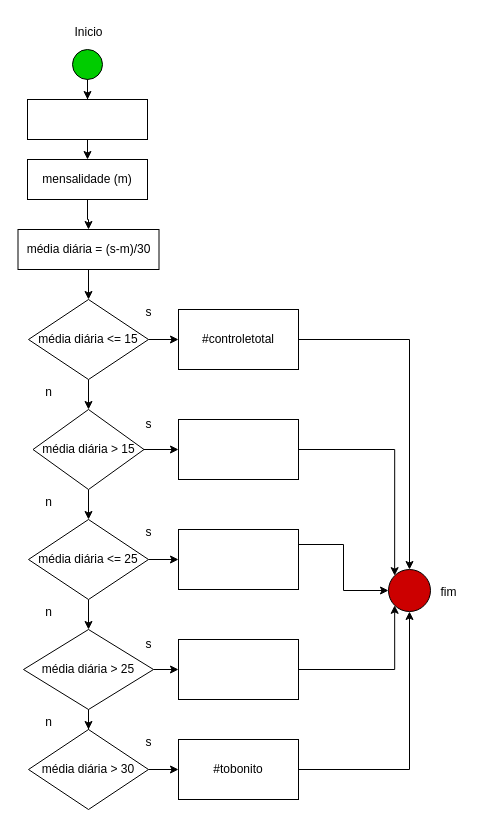
This 485x827 diagram has some shape labels left out. Here are the shapes that lost their labels. From the top down, the box of each, then its label:
(26, 98, 148, 140): salário (s)
(178, 418, 298, 480): #ragazzonosabado
(178, 528, 298, 590): #cinemanamorada
(178, 638, 298, 700): #novogame
